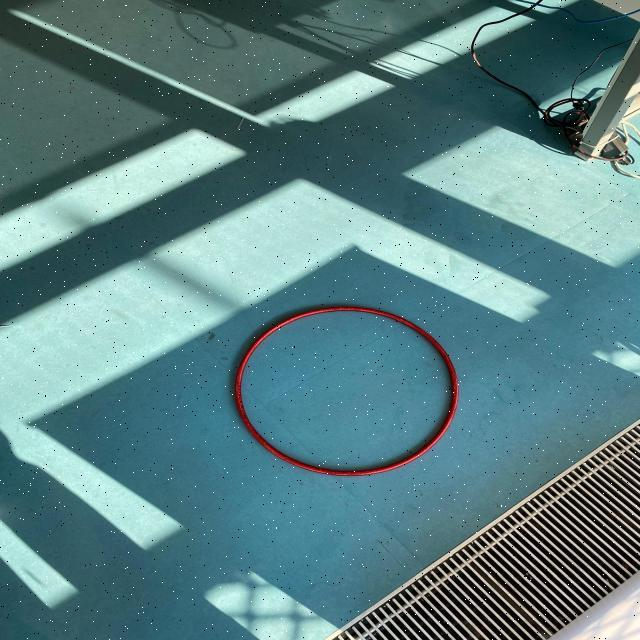Circle: (228, 295, 463, 480)
